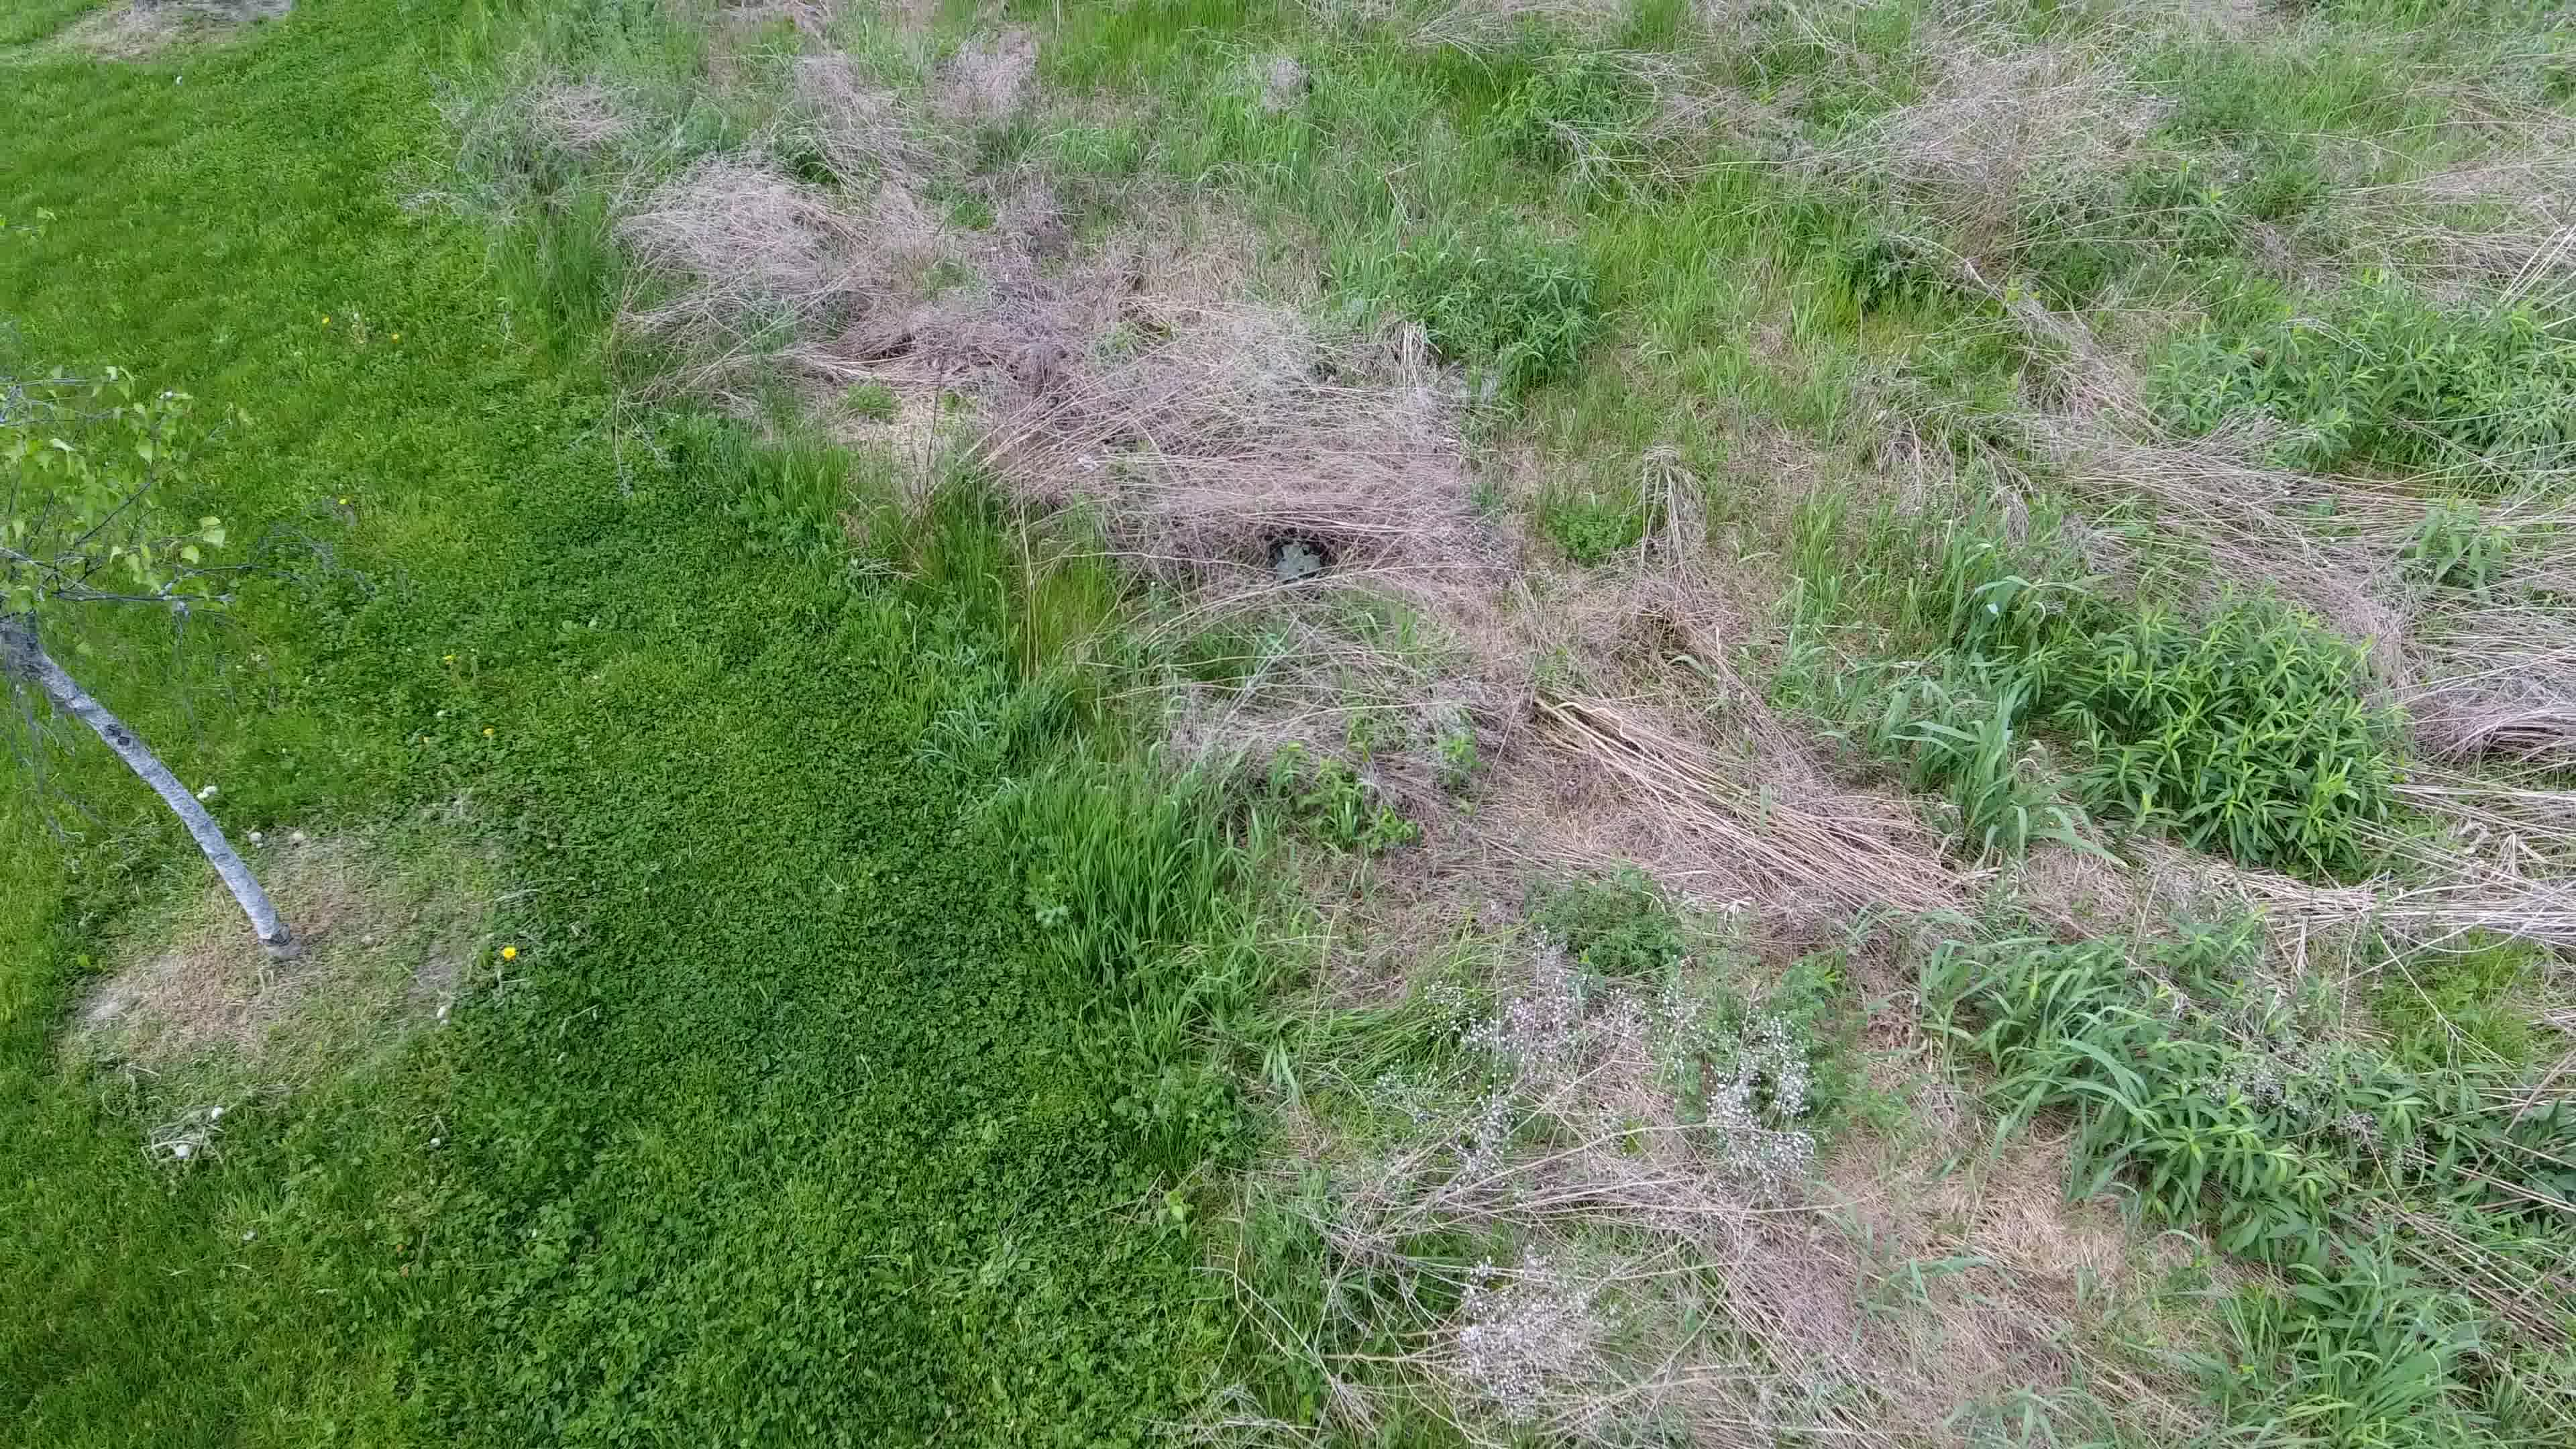transporter9: (1267, 531, 1327, 584)
